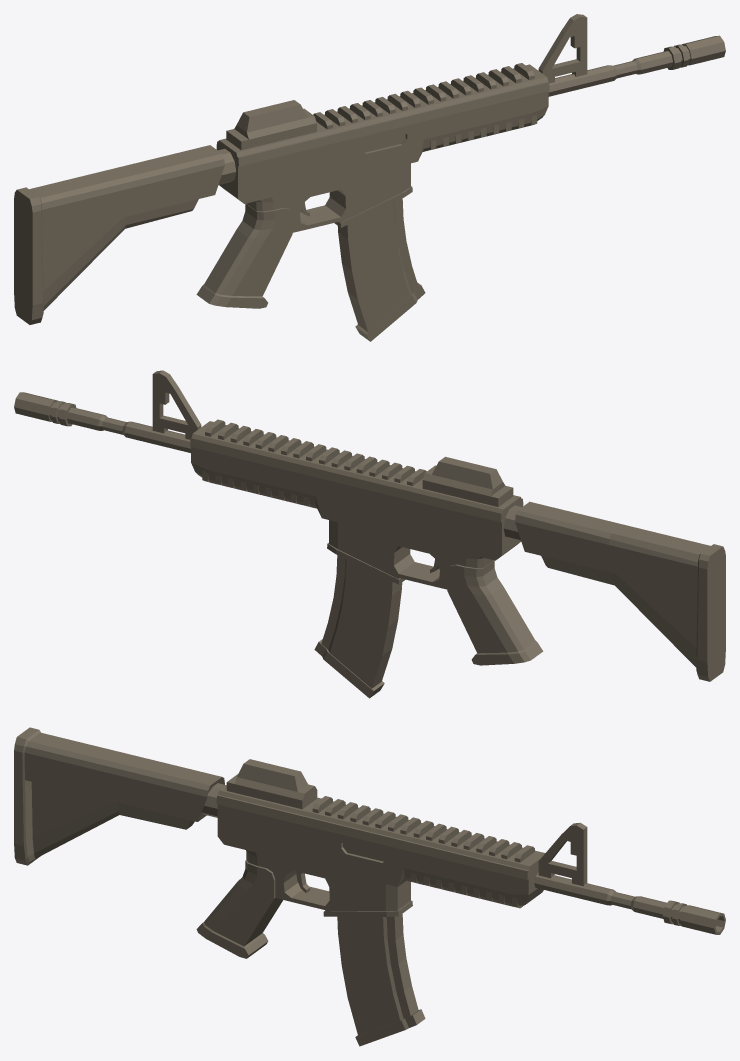
The model's file is scar.glb.
3 renders of one model, top to bottom at view 1: azimuth 30°, elevation 25°; view 2: azimuth 150°, elevation 25°; view 3: azimuth 330°, elevation 25°, orthographic.
Parts seen in each view (by area): view 1: AssaultRifle2_2_Cube.160; view 2: AssaultRifle2_2_Cube.160; view 3: AssaultRifle2_2_Cube.160.
Part boxes in pixels (bbox=[...]): AssaultRifle2_2_Cube.160: bbox=[14, 14, 725, 341]; AssaultRifle2_2_Cube.160: bbox=[14, 370, 725, 698]; AssaultRifle2_2_Cube.160: bbox=[14, 727, 725, 1046].
Bounding box in the file's own units: 2.65 × 0.9831 × 0.1479.
